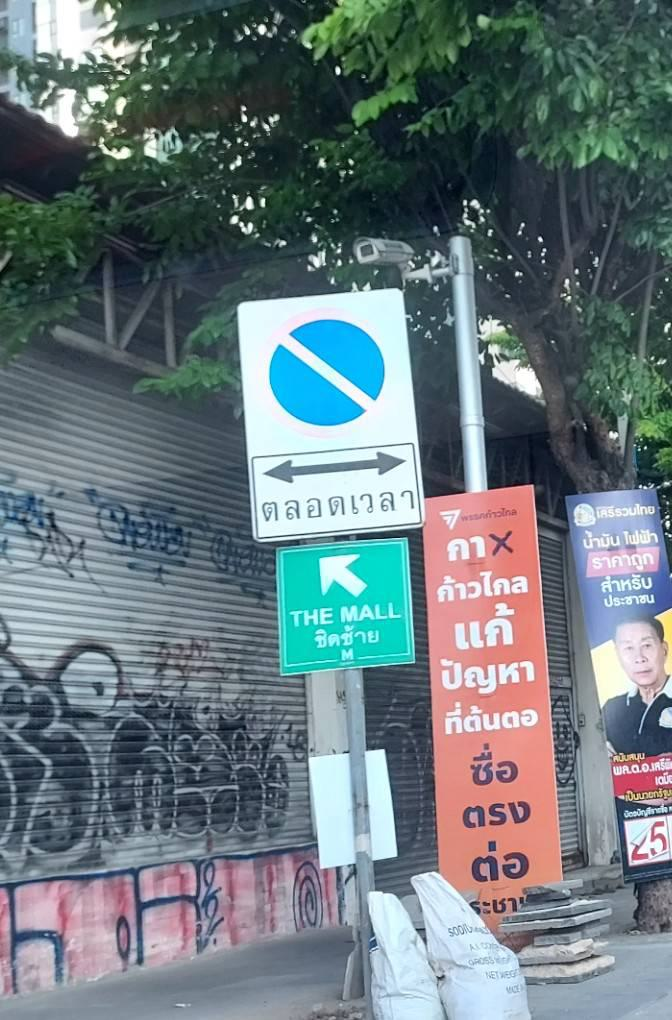Banner: (410, 477, 565, 938), (549, 453, 672, 884)
